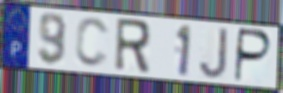1: (174, 24, 193, 79)
9: (36, 11, 67, 68)
C: (73, 16, 112, 70)
J: (197, 26, 229, 81)
P: (232, 26, 274, 84)
R: (112, 16, 152, 76)
